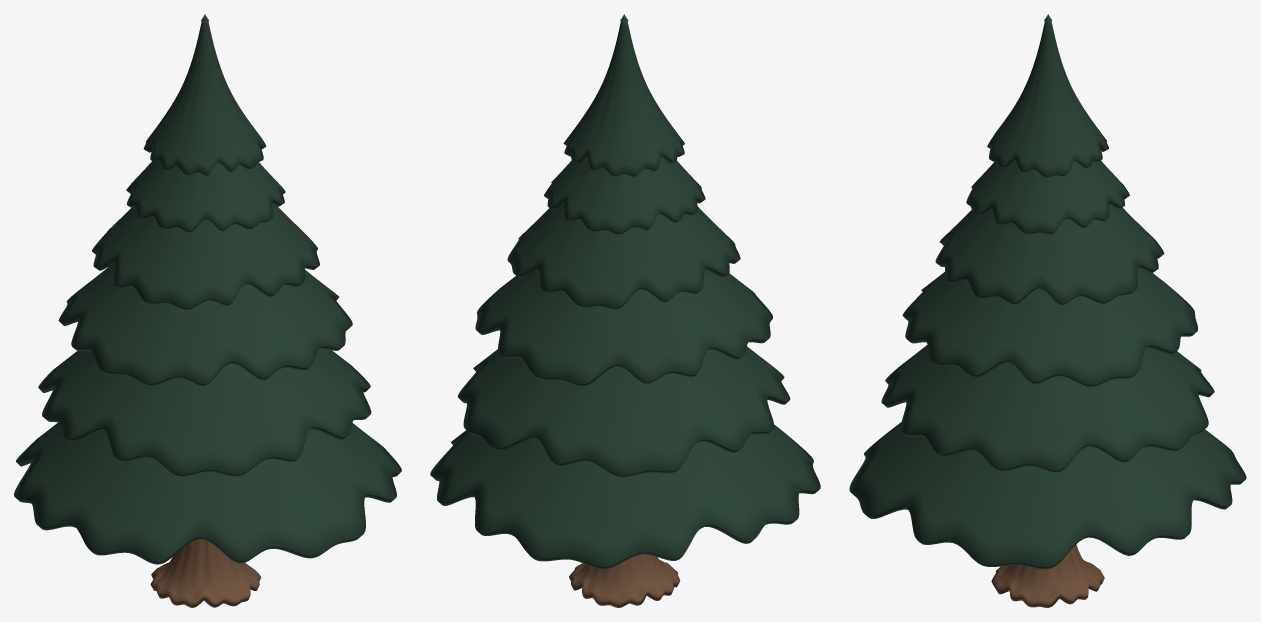
Rendered from pinetree.glb.
3 renders of one model, left to right at view 1: azimuth 30°, elevation 25°; view 2: azimuth 150°, elevation 25°; view 3: azimuth 270°, elevation 25°, orthographic.
Visible parts, largest first — view 1: Cylinder, Cylinder.001, Cylinder.002, Cylinder.003, Cylinder.005, Cylinder.004, Cylinder.006; view 2: Cylinder, Cylinder.001, Cylinder.002, Cylinder.003, Cylinder.005, Cylinder.004, Cylinder.006; view 3: Cylinder, Cylinder.001, Cylinder.002, Cylinder.003, Cylinder.005, Cylinder.004, Cylinder.006.
Part boxes in pixels (x1=…): Cylinder: x1=14, y1=422, x2=401, y2=564; Cylinder.001: x1=38, y1=349, x2=371, y2=476; Cylinder.002: x1=58, y1=264, x2=352, y2=386; Cylinder.003: x1=92, y1=204, x2=319, y2=310; Cylinder.005: x1=143, y1=14, x2=266, y2=175; Cylinder.004: x1=126, y1=161, x2=285, y2=232; Cylinder.006: x1=150, y1=539, x2=261, y2=607; Cylinder: x1=430, y1=424, x2=820, y2=569; Cylinder.001: x1=457, y1=346, x2=790, y2=477; Cylinder.002: x1=475, y1=270, x2=772, y2=386; Cylinder.003: x1=507, y1=205, x2=740, y2=309; Cylinder.005: x1=563, y1=14, x2=684, y2=176; Cylinder.004: x1=544, y1=157, x2=705, y2=234; Cylinder.006: x1=569, y1=554, x2=680, y2=607; Cylinder: x1=849, y1=422, x2=1246, y2=569; Cylinder.001: x1=881, y1=345, x2=1214, y2=472; Cylinder.002: x1=902, y1=268, x2=1197, y2=387; Cylinder.003: x1=935, y1=204, x2=1164, y2=305; Cylinder.005: x1=987, y1=14, x2=1108, y2=177; Cylinder.004: x1=966, y1=160, x2=1129, y2=234; Cylinder.006: x1=991, y1=544, x2=1104, y2=607.
Bounding box in the file's own units: 23 × 36.78 × 23.16.
